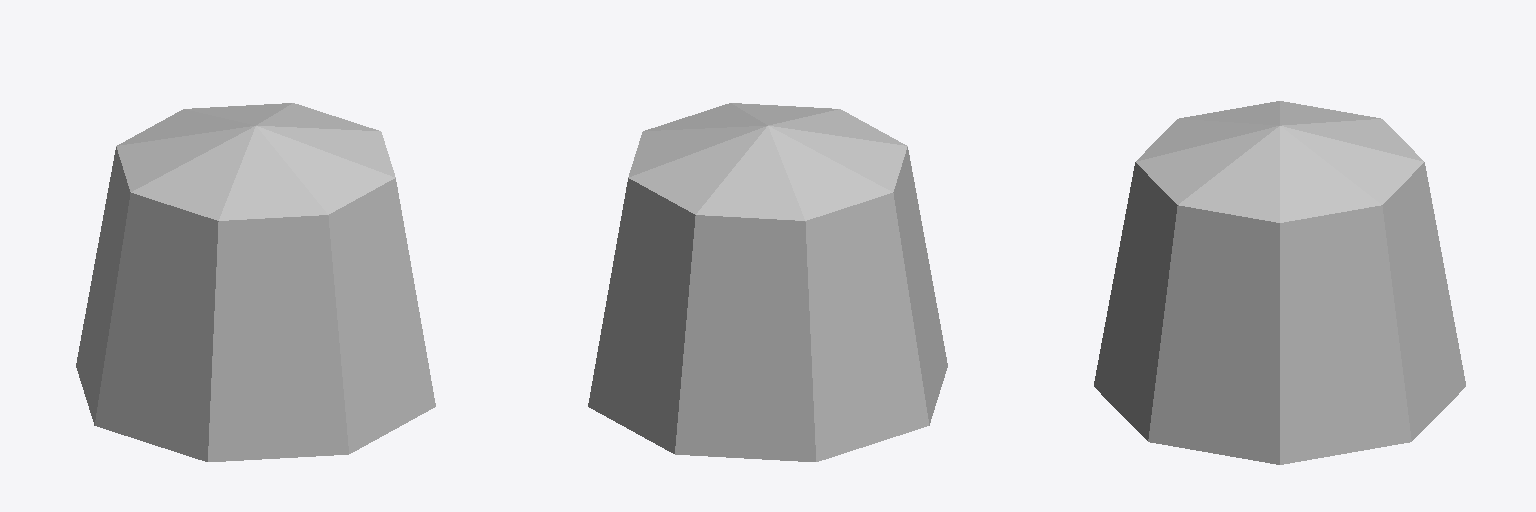
File: enm_pawn_rso_Head.obj
3 views of the same model, side by side, from view 1: azimuth 30°, elevation 25°; view 2: azimuth 150°, elevation 25°; view 3: azimuth 270°, elevation 25° (orthographic).
Parts seen in each view (by area): view 1: polygon0; view 2: polygon0; view 3: polygon0.
Boxes of the visible parts, box(x1,y1,x2,y2) form: polygon0: box(76, 103, 435, 461); polygon0: box(588, 103, 947, 461); polygon0: box(1094, 101, 1465, 464).
Size of the model in its own units: 3.9 by 3.01 by 3.9.